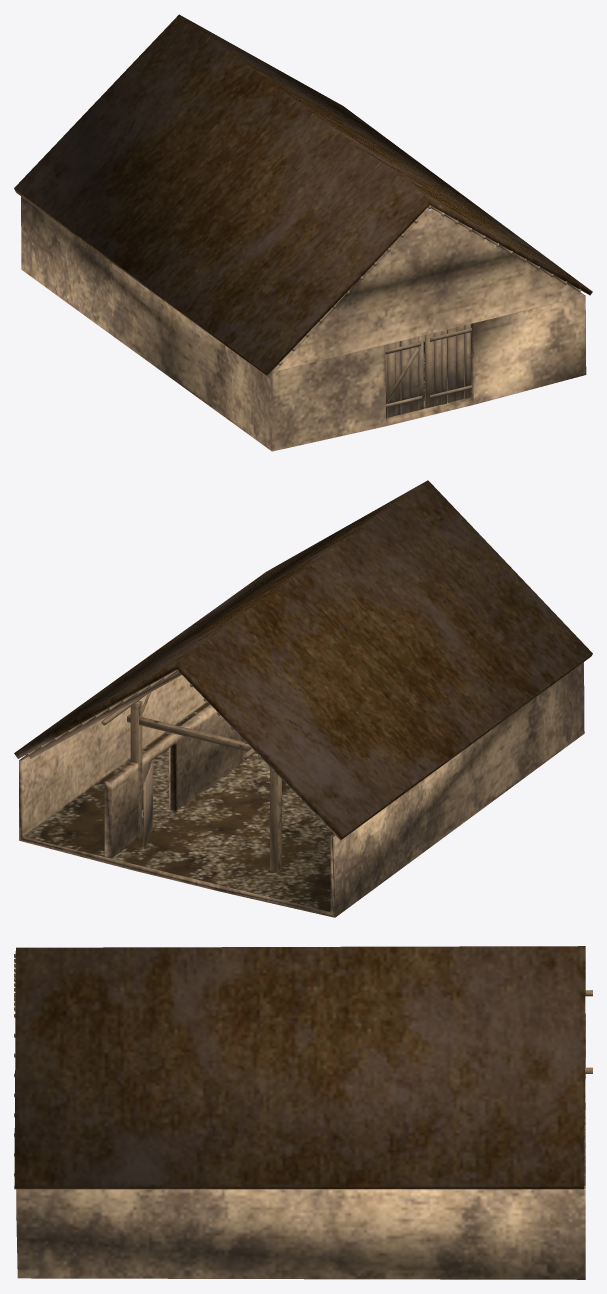
The model's file is barntest.gltf.
3 renders of one model, top to bottom at view 1: azimuth 30°, elevation 25°; view 2: azimuth 150°, elevation 25°; view 3: azimuth 270°, elevation 25°, orthographic. The views are drawn at different scales.
Parts seen in each view (by area): view 1: BarnBaked; view 2: BarnBaked; view 3: BarnBaked.
Boxes of the visible parts, x1,y1,x2,y2 form: BarnBaked: (14, 14, 592, 451); BarnBaked: (14, 480, 592, 917); BarnBaked: (14, 946, 592, 1279).
Size of what is drawn, in the model's own units: 11.26 by 7.14 by 15.1.
Materials: 1 (1 with a texture image).
